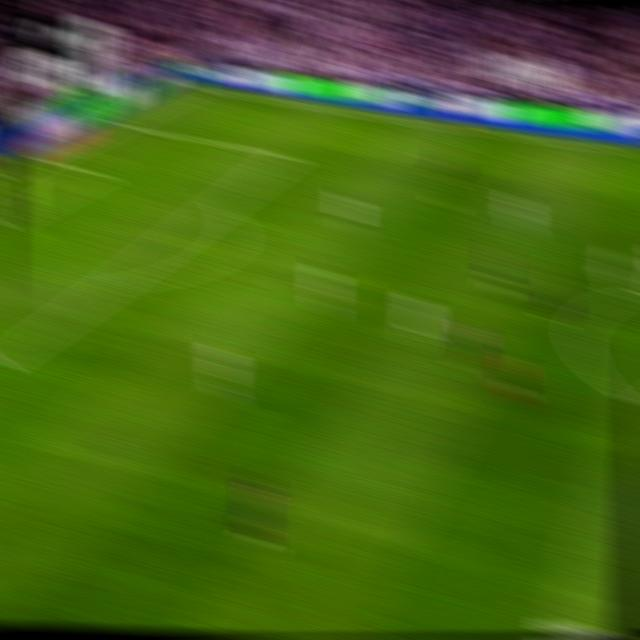bigarea_top_inner: (276, 145, 300, 166)
bigarea_top_outter: (105, 113, 129, 131)
bottom_arc_area_intersection: (102, 269, 128, 295)
corner: (178, 79, 204, 96)
smallarea_top_inner: (86, 162, 110, 181)
top_arc_area_intersection: (208, 194, 234, 216)
